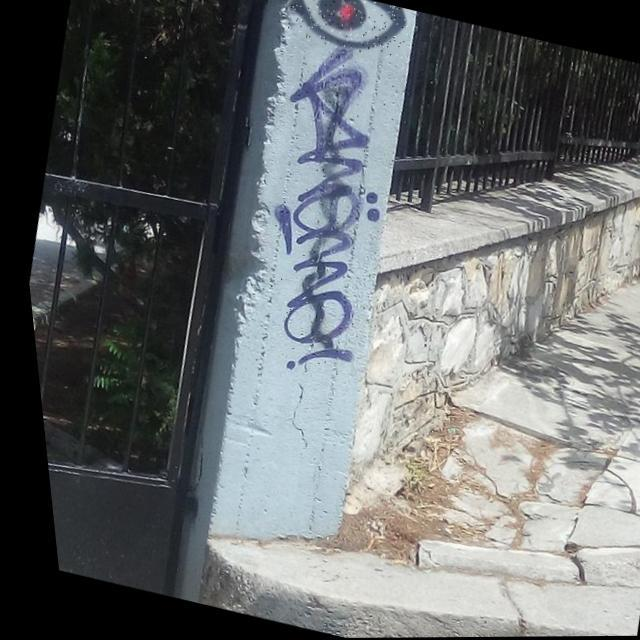-: (214, 37, 428, 385), (279, 0, 414, 63)
